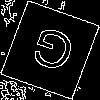G: (25, 25, 79, 82)
